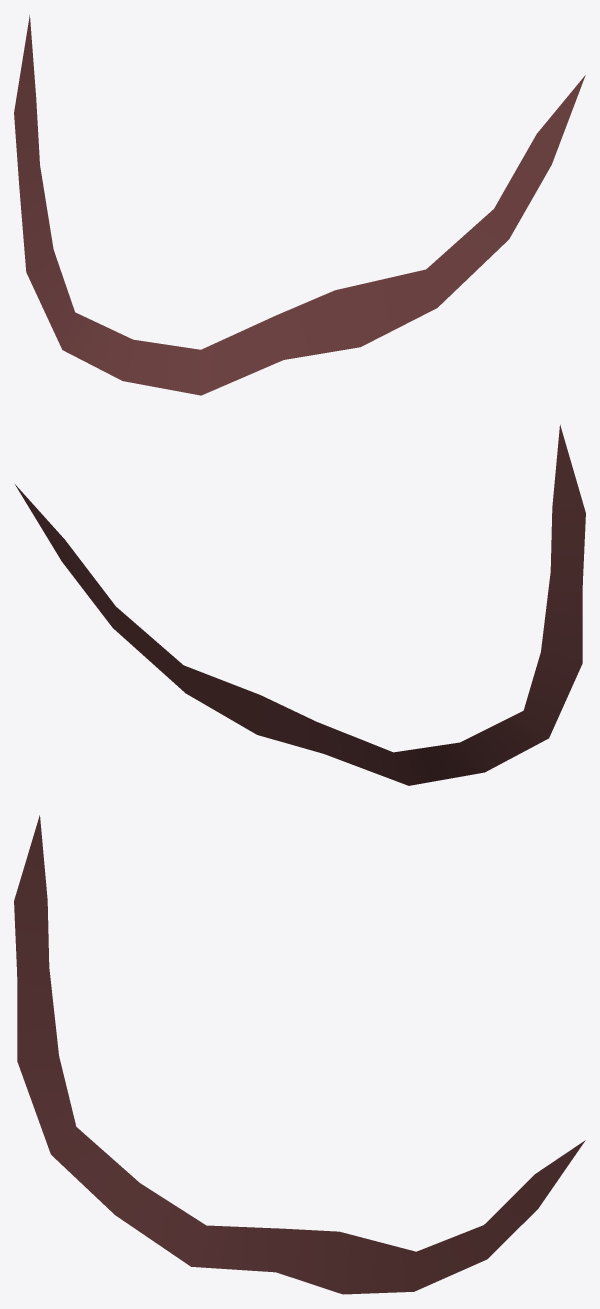
File: Liana_1c.fbx
The picture shows the model from 3 angles, top to bottom: view 1: azimuth 30°, elevation 25°; view 2: azimuth 150°, elevation 25°; view 3: azimuth 330°, elevation 25°; orthographic projection.
Parts seen in each view (by area): view 1: Liana_1c; view 2: Liana_1c; view 3: Liana_1c.
Boxes of the visible parts, x1,y1,x2,y2 form: Liana_1c: (14, 15, 585, 395); Liana_1c: (15, 424, 585, 785); Liana_1c: (14, 815, 585, 1294).
Size of the model in its own units: 40.4 by 27.73 by 1.74.
1 material, 1 textured.
